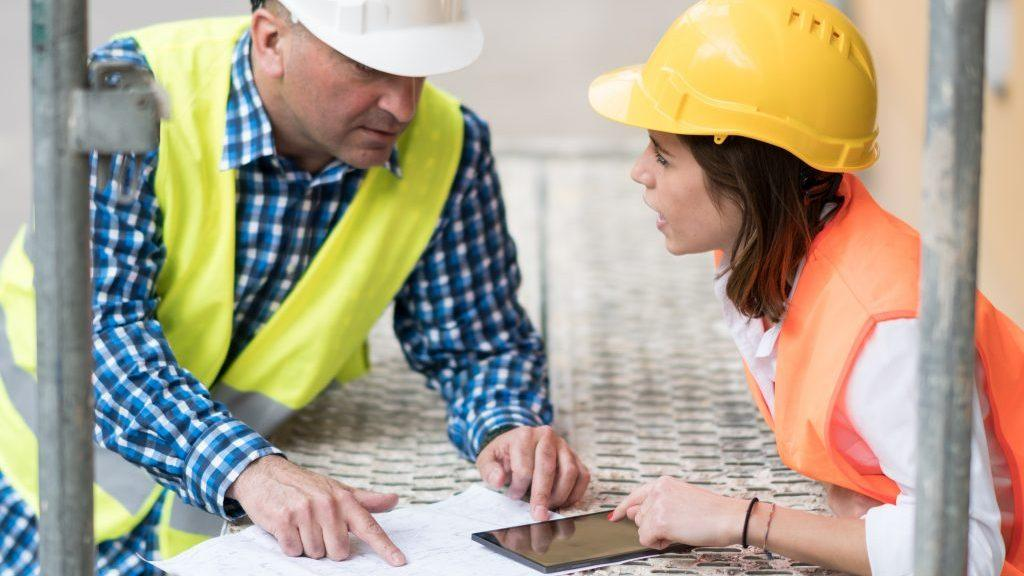helmet: (586, 1, 886, 178), (270, 1, 484, 80)
